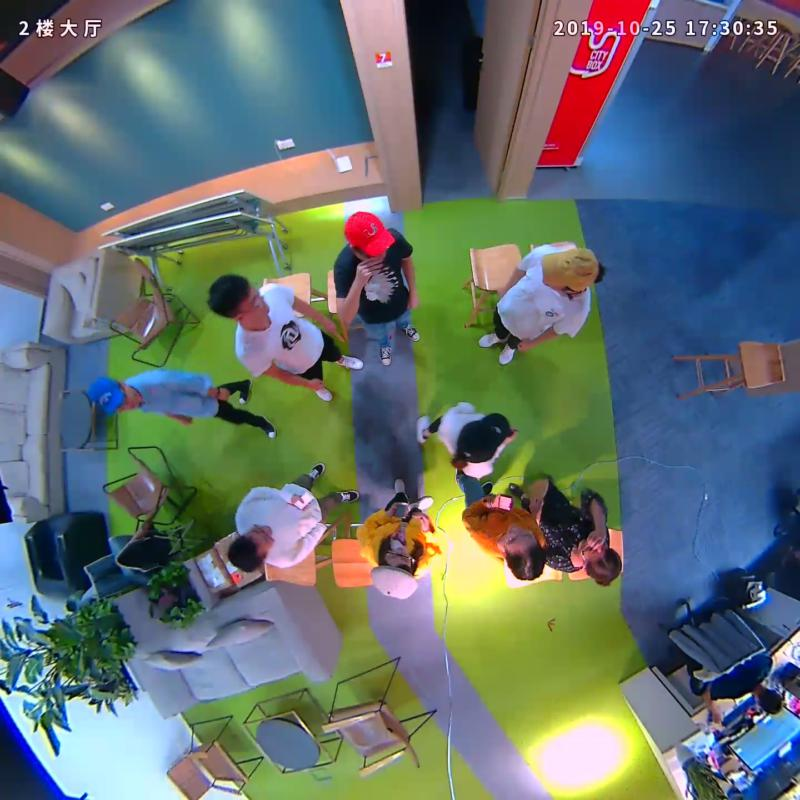head: (207, 273, 271, 321), (541, 248, 600, 298), (369, 545, 418, 601), (456, 412, 511, 461), (344, 211, 396, 260), (227, 523, 277, 570), (87, 373, 141, 416), (577, 536, 623, 586), (504, 525, 545, 581)
